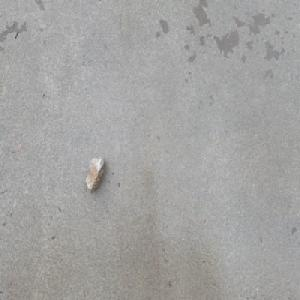Rock: (85, 154, 105, 194)
